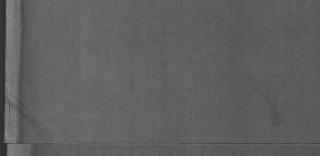water spot: (6, 95, 54, 137), (246, 76, 284, 128)
welding line: (1, 139, 319, 149)
